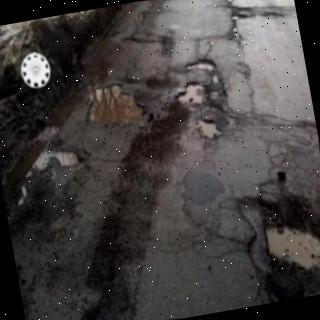pothole: (254, 172, 320, 303), (85, 83, 148, 131), (33, 149, 83, 169), (179, 83, 204, 105), (198, 120, 224, 139), (186, 59, 218, 71), (214, 76, 220, 82), (212, 92, 218, 98)
